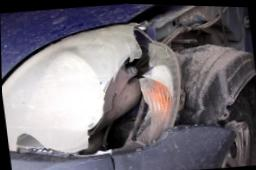Light: (1, 34, 176, 159)
